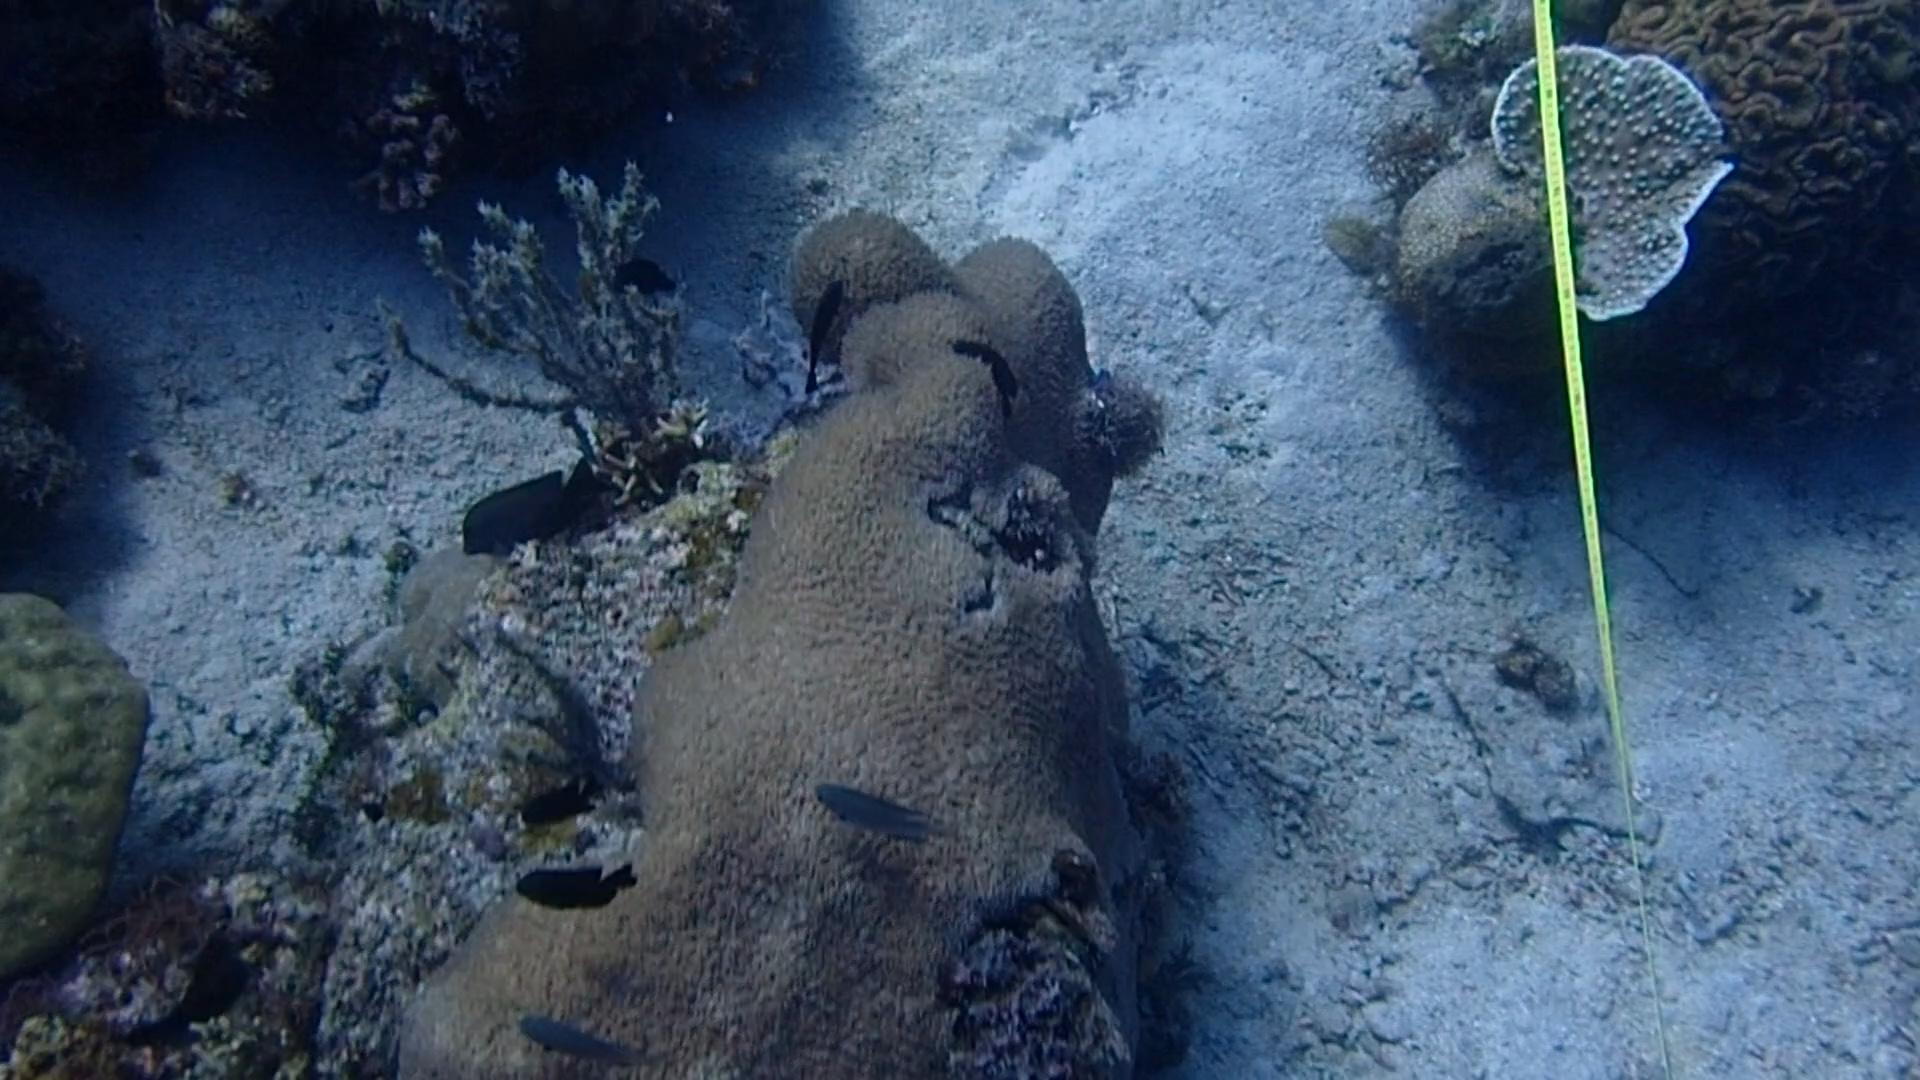Big Dark Blue Fish: (443, 467, 608, 546)
Dark Fish: (508, 848, 638, 924), (787, 273, 866, 382), (932, 331, 1023, 414), (498, 769, 608, 835), (595, 237, 684, 310)
Light Fish: (807, 773, 938, 861), (516, 998, 628, 1075)
